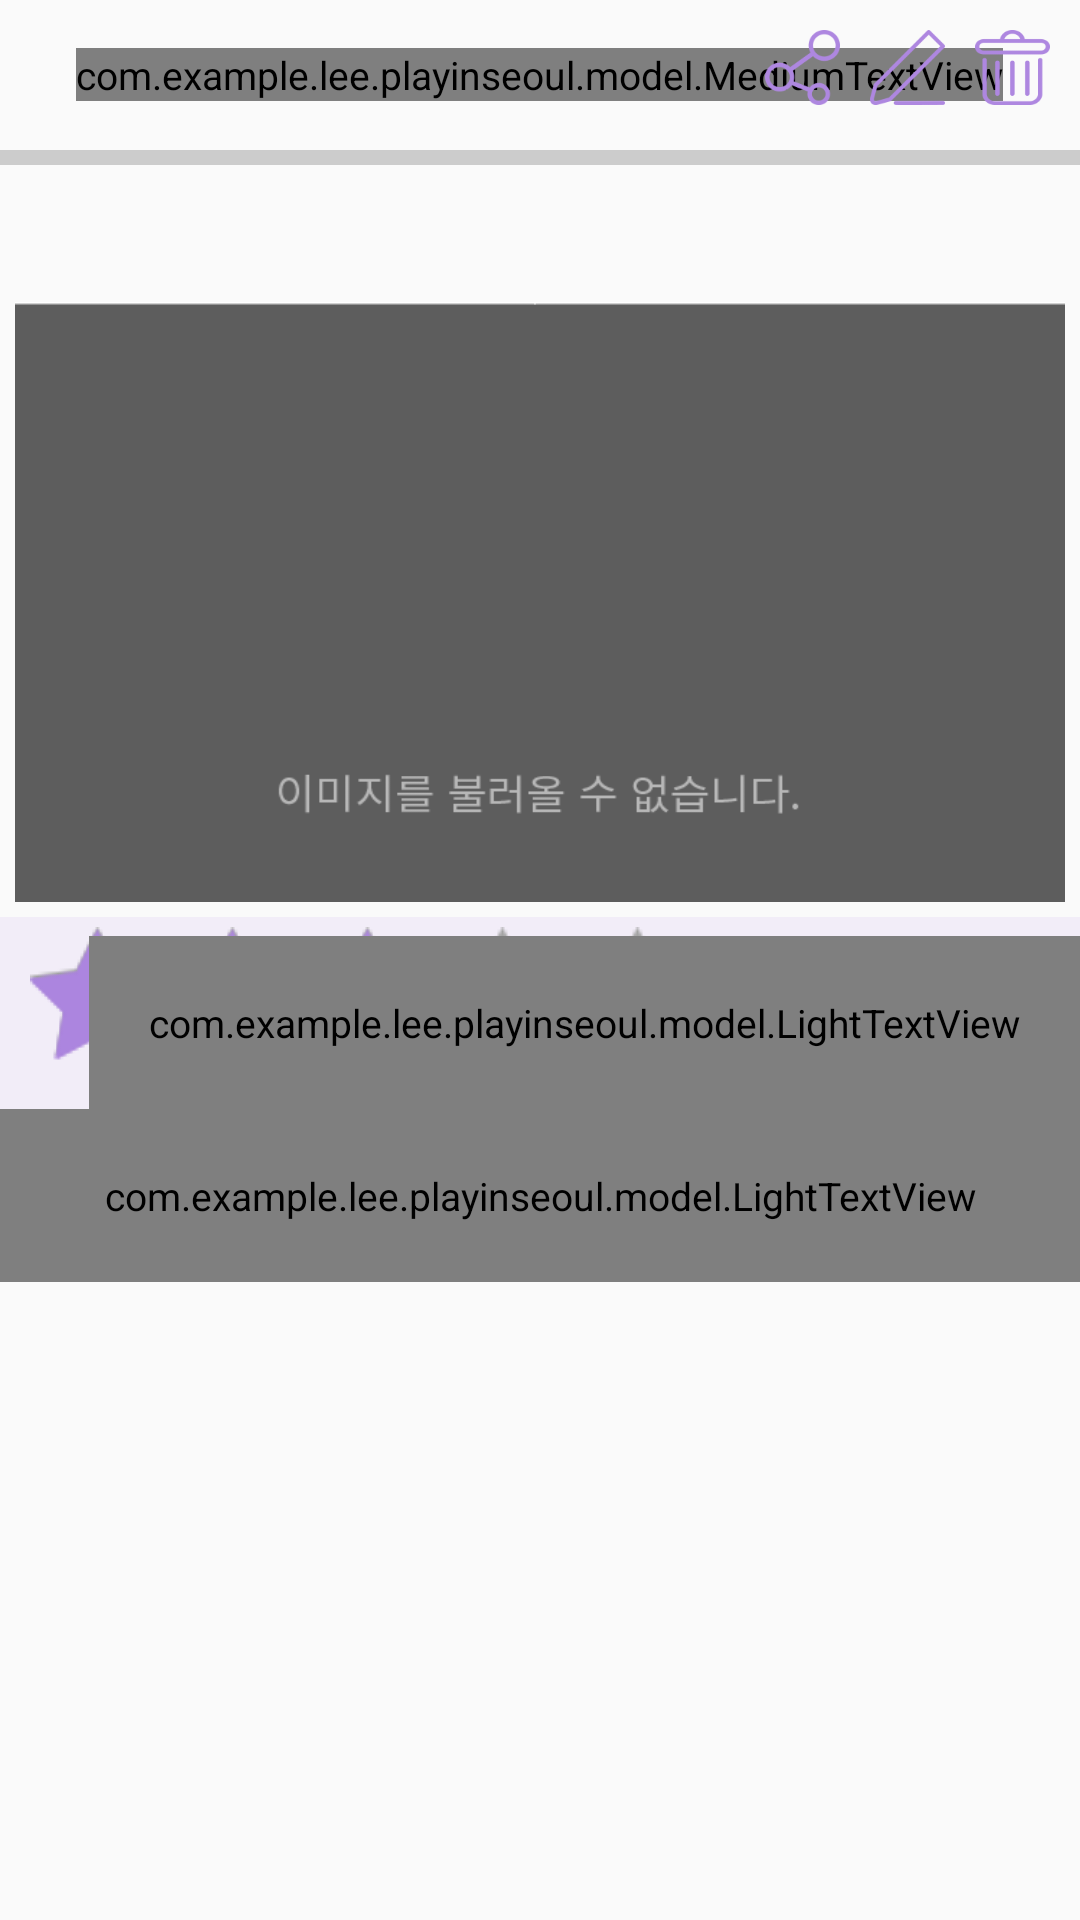

Where icons sit on this 1080×1920 app screen, as (x1, y1, x2, y2):
delete: (975, 30, 1050, 105)
edit: (870, 30, 945, 105)
share: (765, 30, 840, 105)
